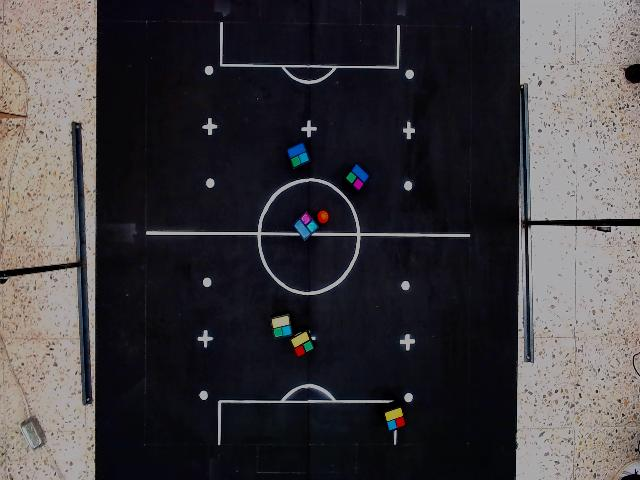robot: (292, 210, 320, 242), (289, 329, 316, 359), (345, 162, 371, 192), (269, 312, 294, 341), (286, 142, 311, 169), (383, 406, 407, 432)
